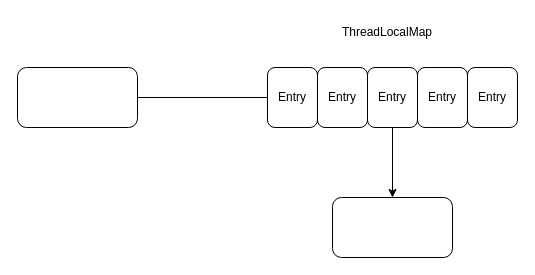
The diagram is 535 pixels wide and 275 high, and some of its shapes have lost their labels. Each missing label, with the centre of its shape:
"key: ThreadLocal value: Object" goes at point (392, 227).
"Thread" goes at point (77, 97).
